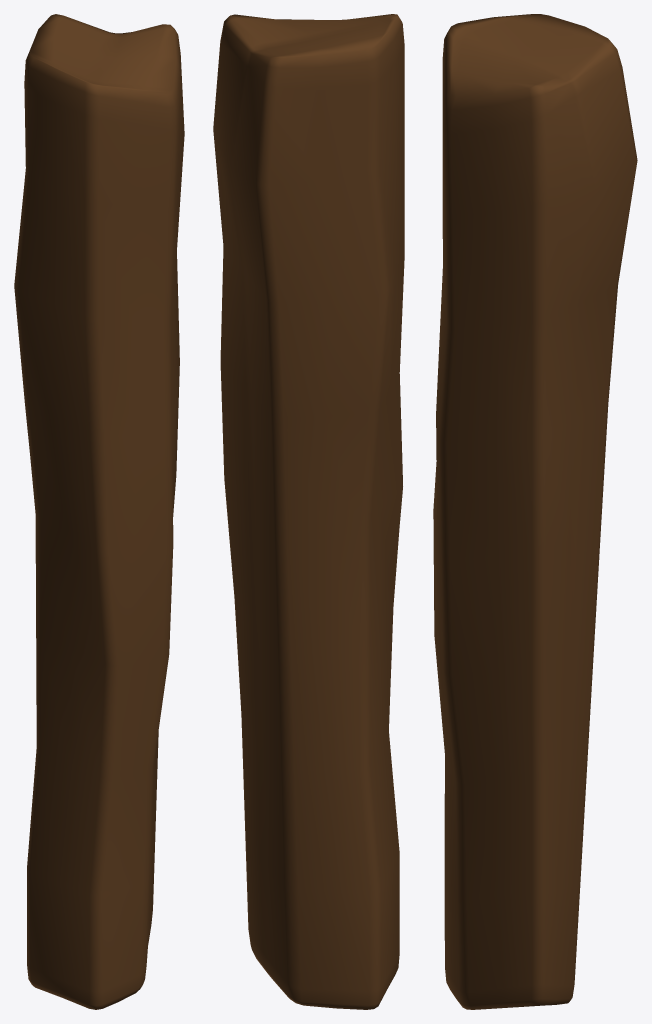
The model's file is Log.fbx.
3 views of the same model, side by side, from view 1: azimuth 30°, elevation 25°; view 2: azimuth 150°, elevation 25°; view 3: azimuth 270°, elevation 25° (orthographic). The views are drawn at different scales.
Parts seen in each view (by area): view 1: Cylinder; view 2: Cylinder; view 3: Cylinder.
Boxes of the visible parts, <box> form: Cylinder: <box>14,14,184,1009</box>; Cylinder: <box>213,14,404,1009</box>; Cylinder: <box>433,14,637,1009</box>.
Size of the model in its own units: 18.85 by 100 by 19.26.
